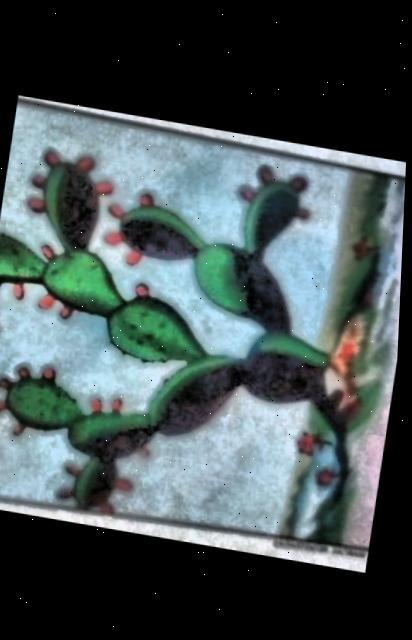El Nopal: (0, 100, 407, 544)
